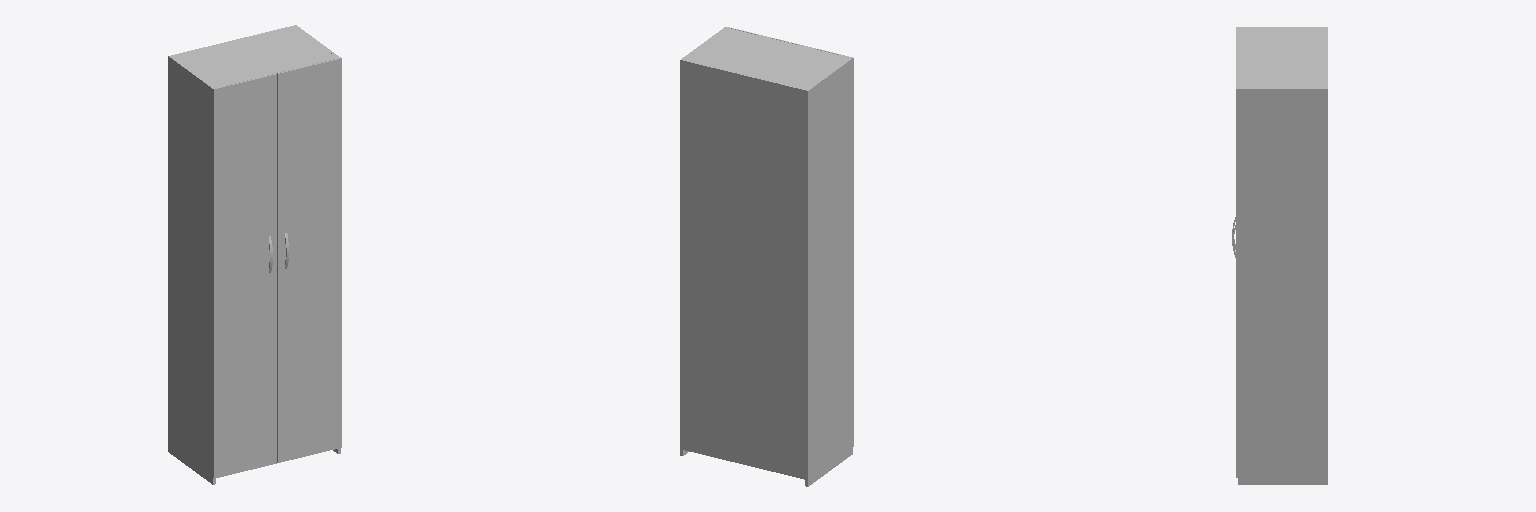
The model's file is uno.obj.
3 views of the same model, side by side, from view 1: azimuth 30°, elevation 25°; view 2: azimuth 150°, elevation 25°; view 3: azimuth 270°, elevation 25° (orthographic).
Parts seen in each view (by area): view 1: Куб.001_Куб.009, Куб.003; view 2: Куб.003; view 3: Куб.003, Куб.001_Куб.009.
Boxes of the visible parts, <box> form: Куб.001_Куб.009: <box>213,58,341,478</box>; Куб.003: <box>168,25,340,484</box>; Куб.003: <box>680,27,852,486</box>; Куб.003: <box>1238,27,1327,484</box>; Куб.001_Куб.009: <box>1236,27,1237,477</box>.
Bounding box in the file's own units: 1.23 × 3.65 × 0.7975.